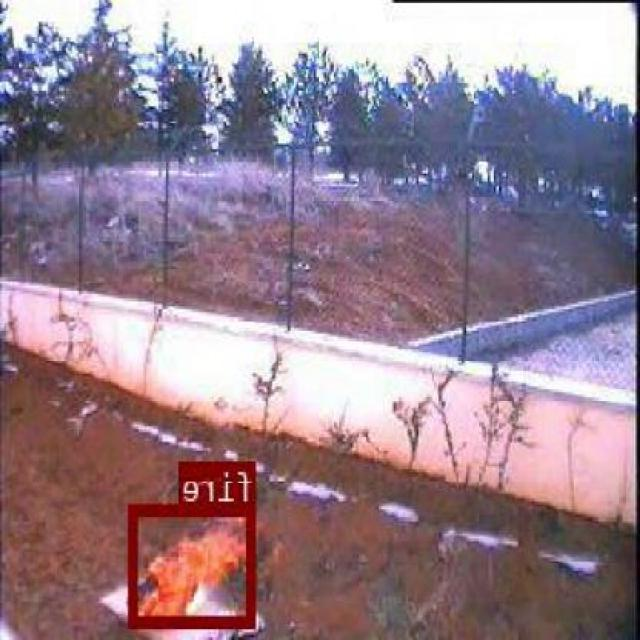fire: (132, 502, 256, 627)
